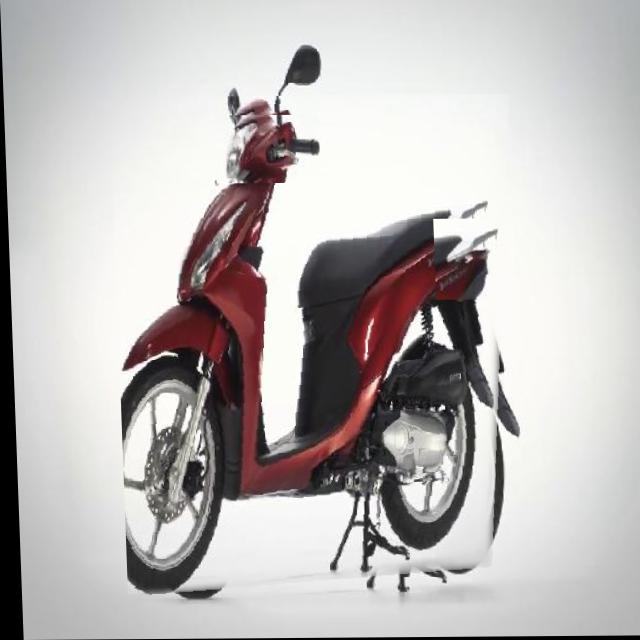All: (109, 96, 526, 600)
Head: (213, 115, 319, 184)
Tail: (431, 219, 505, 300)
